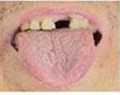baitaishe: (16, 30, 95, 86)
liewenshe: (48, 36, 70, 70)
